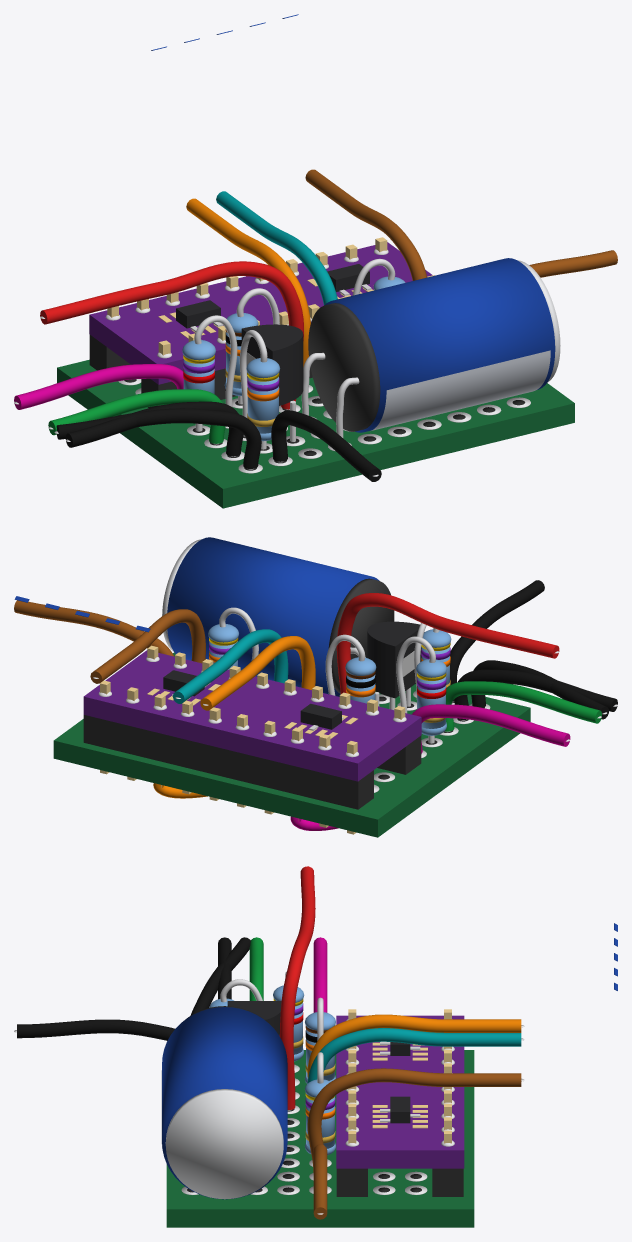
Rendered from fet_platine_3d.glb.
3 views of the same model, one above another, from view 1: azimuth 30°, elevation 25°; view 2: azimuth 150°, elevation 25°; view 3: azimuth 270°, elevation 25° (orthographic). The views are drawn at different scales.
Parts seen in each view (by area): view 1: Platine, C1, Q1 Adapter, C1 Boden, C1 Streifen, Litze1, Litze4, T1 BC547B, Q2 Adapter, Litze3, Litze5, Litze7 (+13 smaller); view 2: C1, Platine, Q1 Adapter, Q2 Adapter, Stiftleiste, Litze1, Stiftleiste.002, T1 BC547B, Litze5, Litze10, Litze6, Litze3 (+17 smaller); view 3: Platine, C1, C1 Deckel, Q2 Adapter, Litze6, Litze7, Litze1, Litze10, Q1 Adapter, Litze2, Litze8, Litze4 (+8 smaller).
Part boxes in pixels (box(x1,y1,x2,y2)): Platine: box(57, 359, 574, 508); C1: box(324, 258, 555, 432); Q1 Adapter: box(89, 278, 283, 384); C1 Boden: box(308, 303, 380, 431); C1 Streifen: box(371, 350, 550, 430); Litze1: box(40, 261, 303, 409); Litze4: box(56, 408, 261, 468); T1 BC547B: box(241, 324, 303, 405); Q2 Adapter: box(239, 242, 432, 322); Litze3: box(14, 364, 183, 409); Litze5: box(48, 389, 225, 443); Litze7: box(216, 191, 337, 304); C1: box(167, 537, 379, 696); Platine: box(53, 652, 530, 837); Q1 Adapter: box(220, 683, 421, 781); Q2 Adapter: box(83, 650, 283, 747); Stiftleiste: box(221, 748, 373, 809); Litze1: box(336, 593, 559, 693); Stiftleiste.002: box(83, 715, 220, 775); T1 BC547B: box(367, 621, 424, 698); Litze5: box(445, 681, 601, 731); Litze10: box(200, 636, 315, 710); Litze6: box(90, 609, 205, 683); Litze3: box(412, 704, 570, 753); Platine: box(166, 1050, 474, 1227); C1: box(162, 1007, 287, 1199); C1 Deckel: box(165, 1089, 283, 1199); Q2 Adapter: box(336, 1083, 464, 1168); Litze6: box(307, 1068, 521, 1172); Litze7: box(307, 1028, 521, 1083); Litze1: box(279, 866, 315, 1109); Litze10: box(307, 1014, 521, 1078); Q1 Adapter: box(336, 1015, 464, 1082); Litze2: box(17, 1019, 174, 1040); Litze8: box(313, 1144, 327, 1219); Litze4: box(190, 937, 250, 1015).
Size of the model in its own units: 51.36 by 21.98 by 48.11.
